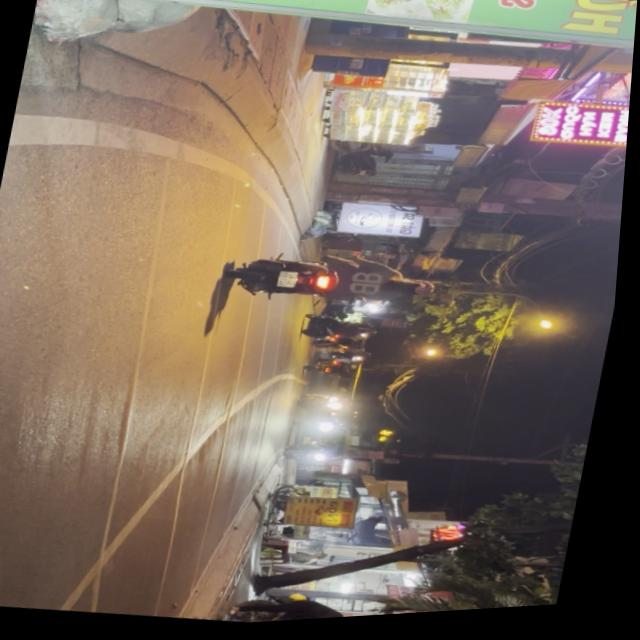helmet: (405, 282, 442, 303)
licenseplate: (220, 236, 453, 329), (117, 595, 409, 633)
nohelmet: (281, 273, 304, 292)
